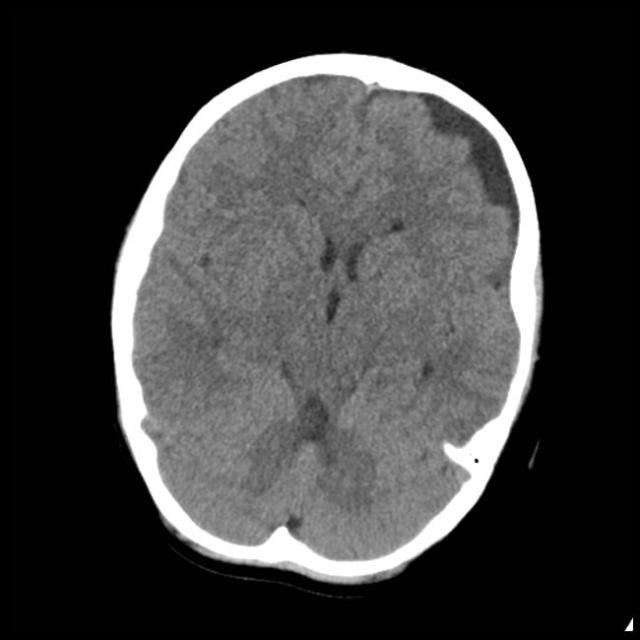lesion: (113, 60, 543, 582)
